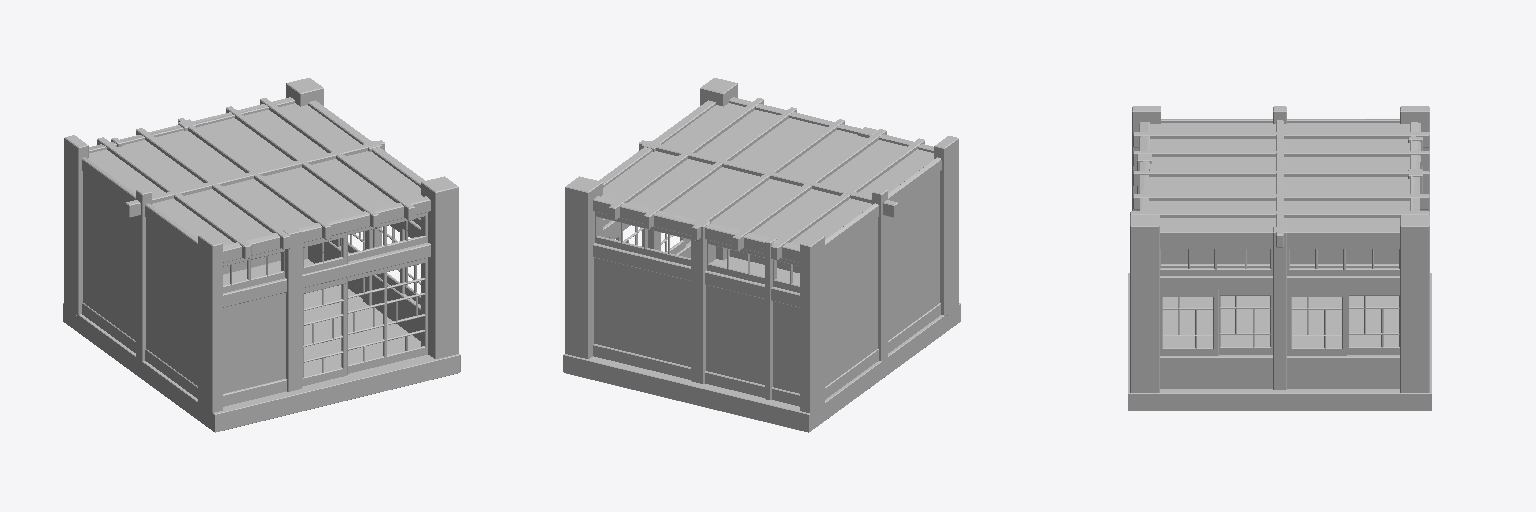
The model's file is HouseAndOutline.obj.
3 views of the same model, side by side, from view 1: azimuth 30°, elevation 25°; view 2: azimuth 150°, elevation 25°; view 3: azimuth 270°, elevation 25° (orthographic).
Visible parts, largest first — view 1: House wood_Outline, Roof House, House walls, House floor; view 2: House wood_Outline, House walls, Roof House, House floor; view 3: House wood_Outline, Roof House, House floor, House walls.
Boxes of the visible parts, <box> form: House wood_Outline: <box>64,78,458,413</box>; Roof House: <box>88,103,422,245</box>; House walls: <box>83,171,285,393</box>; House floor: <box>63,259,460,432</box>; House wood_Outline: <box>565,78,958,414</box>; House walls: <box>594,172,939,393</box>; Roof House: <box>601,103,933,244</box>; House floor: <box>563,256,960,432</box>; House wood_Outline: <box>1130,106,1429,392</box>; Roof House: <box>1149,123,1409,228</box>; House floor: <box>1128,273,1431,410</box>; House walls: <box>1161,249,1398,263</box>.
Bounding box in the file's own units: 577 × 397 × 590.